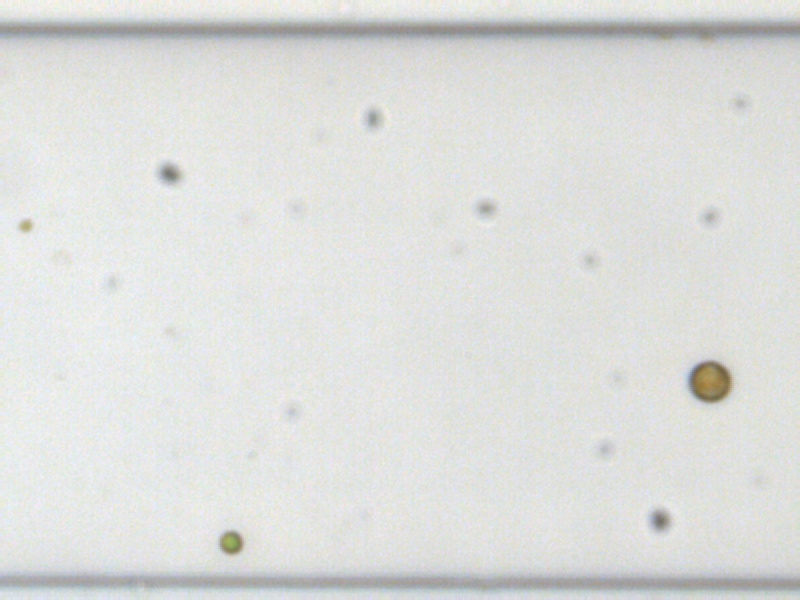Chlorella: (217, 528, 244, 555), (17, 215, 33, 232)
Effrenium: (683, 356, 734, 405)
